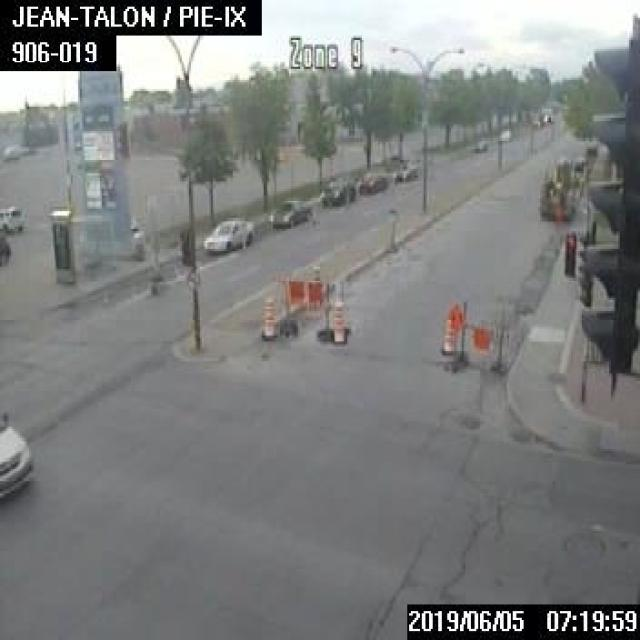construction: (442, 300, 507, 372), (278, 272, 330, 340), (259, 294, 276, 338), (330, 300, 346, 344), (440, 314, 456, 352)
vehicle: (0, 406, 31, 504), (536, 158, 580, 216), (202, 217, 252, 250), (268, 198, 309, 226), (320, 175, 354, 204), (358, 171, 387, 192), (0, 206, 22, 230), (392, 163, 417, 181), (0, 233, 9, 264), (469, 138, 486, 152), (571, 156, 585, 170), (496, 128, 511, 141), (538, 106, 550, 120), (584, 142, 596, 153)
